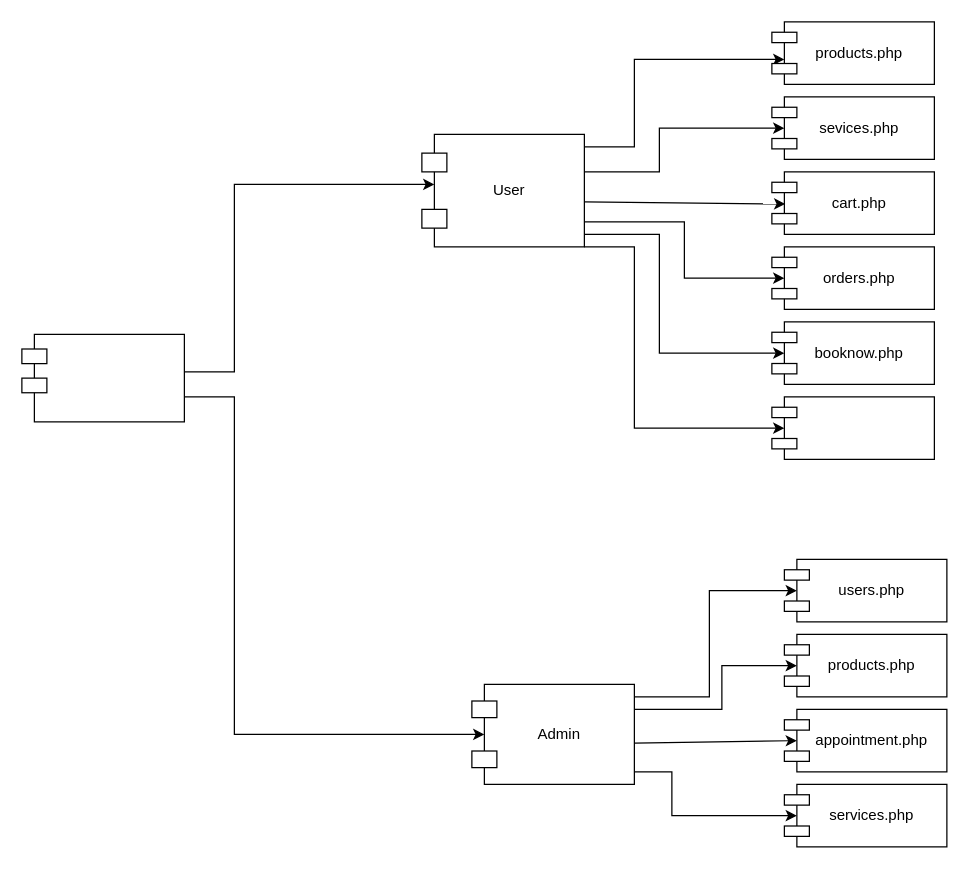
This 969x869 diagram has some shape labels left out. Here are the shapes that lost their labels. From the top down, the centre of each, then its label:
At (108,377): "Serenity Styles".
At (858,427): "payment.php".
